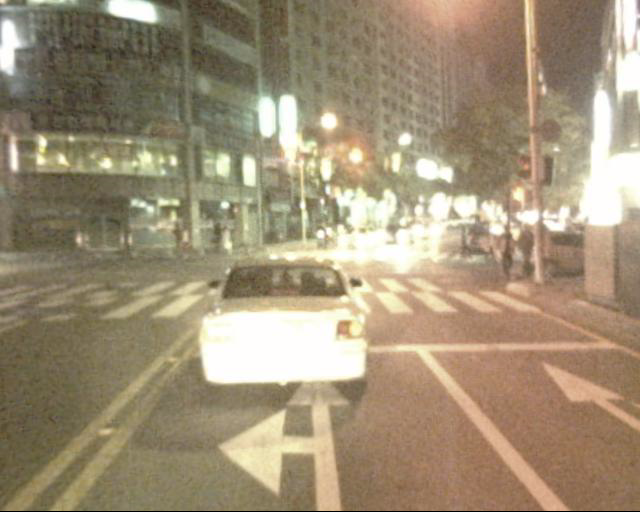person: (516, 222, 541, 285), (204, 217, 235, 260), (499, 227, 519, 281), (308, 222, 331, 263), (481, 230, 502, 271), (457, 229, 477, 268), (171, 221, 191, 258)
